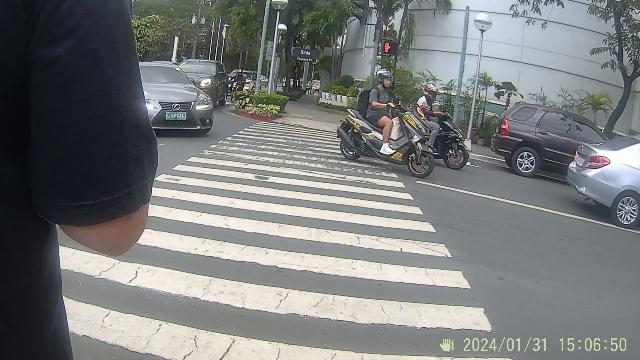lamp_post: (452, 3, 492, 160), (266, 0, 288, 108)
